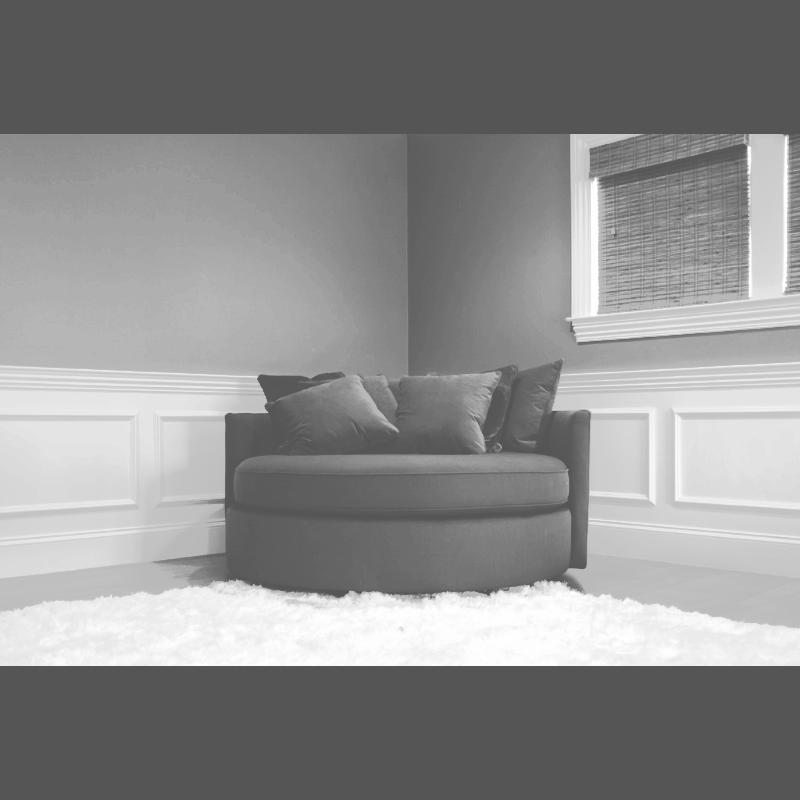pillow: (408, 382, 502, 449), (443, 368, 517, 452), (499, 361, 562, 453), (260, 378, 396, 420)
